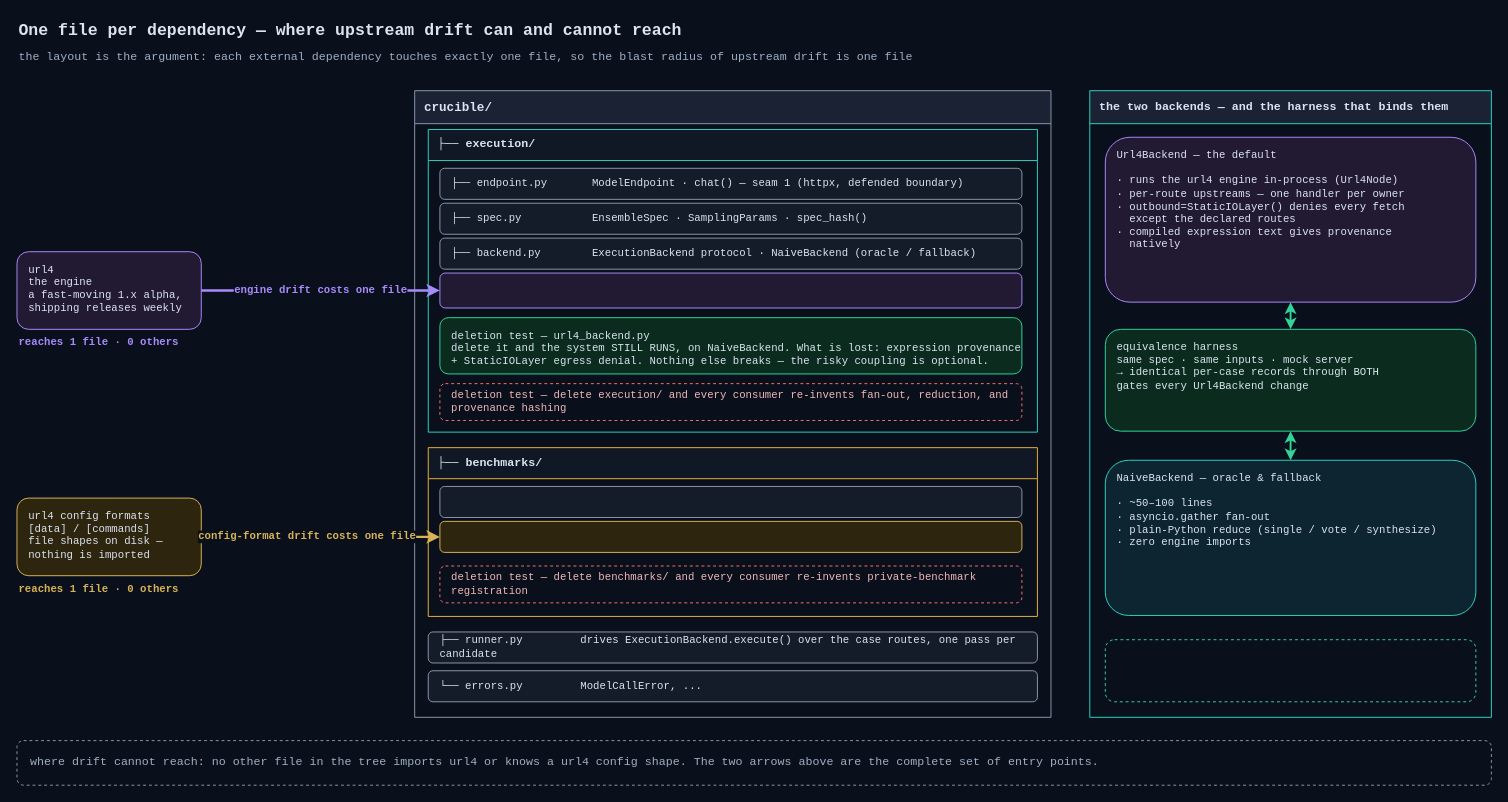
The diagram is 1508 pixels wide and 802 high, and some of its shapes have lost their labels. Each missing label, with the centre of its shape:
"fallback is real, not theoretical — the harness is what proves it" goes at (1290,670).
"└── emitter.py lowers BenchmarkSpec → [data]/[commands] + the /tmp config" goes at (730,536).
"└── url4_backend.py the default path — the only file that ever imports url4" goes at (730,290).
"├── spec.py BenchmarkSpec · CaseSet · JudgeSpec · AggregatorSpec — seam 3" goes at (730,501).
